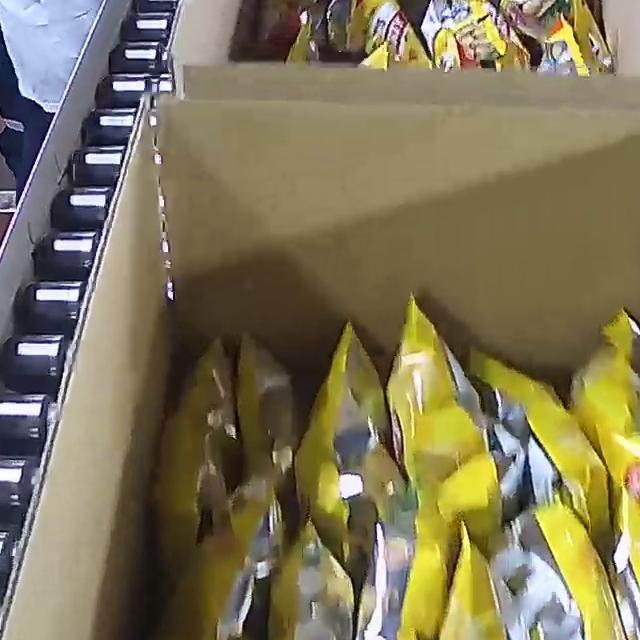salted: (107, 292, 640, 640), (251, 0, 618, 102)
